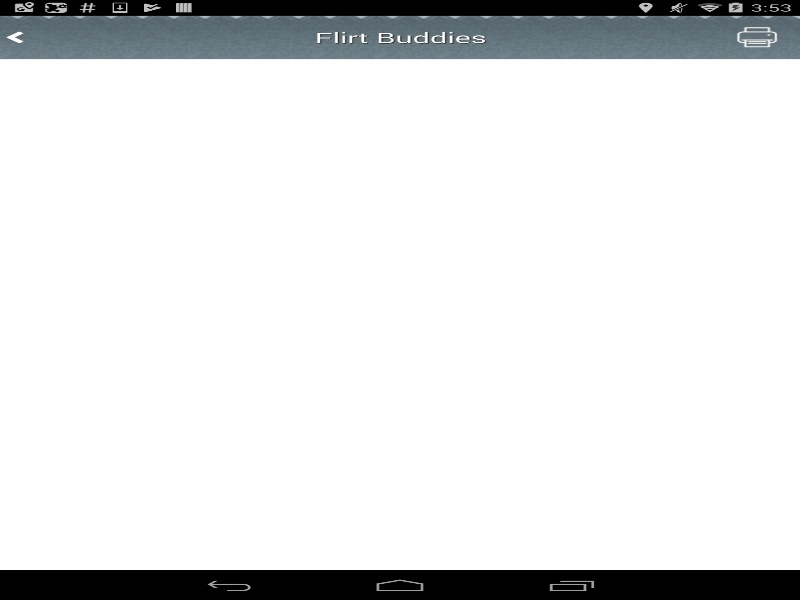Button: (2, 31, 29, 43)
